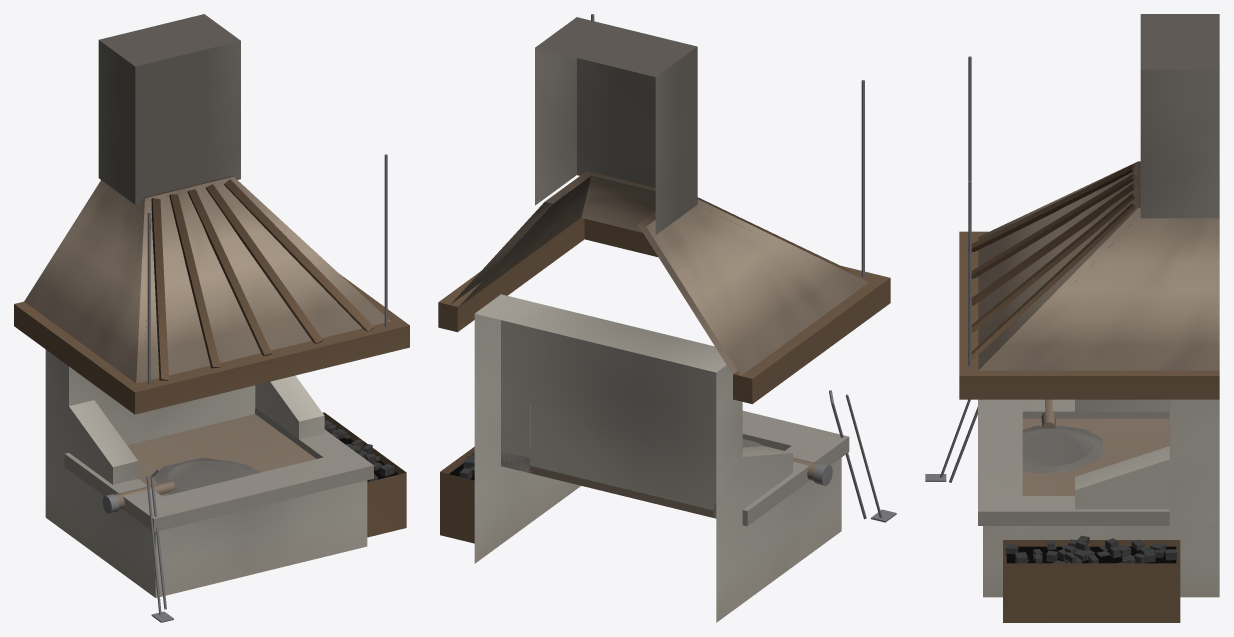
File: kalev_smithy_hearth.glb
3 renders of one model, left to right at view 1: azimuth 30°, elevation 25°; view 2: azimuth 150°, elevation 25°; view 3: azimuth 270°, elevation 25°, orthographic. The views are drawn at different scales.
Visible parts, largest first — view 1: kalev_smithy_hearth_limestone, kalev_smithy_hearth_clay, kalev_smithy_hearth_oak, kalev_smithy_hearth_slab, kalev_smithy_hearth_iron, kalev_smithy_hearth_ash, kalev_smithy_hearth_charcoal; view 2: kalev_smithy_hearth_limestone, kalev_smithy_hearth_clay, kalev_smithy_hearth_oak, kalev_smithy_hearth_slab, kalev_smithy_hearth_iron; view 3: kalev_smithy_hearth_clay, kalev_smithy_hearth_limestone, kalev_smithy_hearth_oak, kalev_smithy_hearth_slab, kalev_smithy_hearth_ash, kalev_smithy_hearth_charcoal, kalev_smithy_hearth_iron, kalev_smithy_hearth_loft_shadow.
Boxes of the visible parts, box(x1,y1,x2,y2) form: kalev_smithy_hearth_limestone: box(45, 14, 367, 597); kalev_smithy_hearth_clay: box(24, 176, 390, 509); kalev_smithy_hearth_oak: box(14, 179, 409, 537); kalev_smithy_hearth_slab: box(64, 408, 373, 532); kalev_smithy_hearth_iron: box(102, 154, 387, 622); kalev_smithy_hearth_ash: box(154, 458, 260, 494); kalev_smithy_hearth_charcoal: box(324, 420, 394, 481); kalev_smithy_hearth_limestone: box(474, 17, 841, 622); kalev_smithy_hearth_clay: box(450, 171, 868, 517); kalev_smithy_hearth_oak: box(438, 197, 890, 543); kalev_smithy_hearth_slab: box(501, 410, 849, 526); kalev_smithy_hearth_iron: box(591, 14, 896, 522); kalev_smithy_hearth_clay: box(978, 161, 1219, 495); kalev_smithy_hearth_limestone: box(983, 14, 1219, 597); kalev_smithy_hearth_oak: box(959, 164, 1219, 622); kalev_smithy_hearth_slab: box(978, 399, 1169, 525); kalev_smithy_hearth_ash: box(1022, 425, 1103, 473); kalev_smithy_hearth_charcoal: box(1005, 535, 1176, 563); kalev_smithy_hearth_iron: box(925, 56, 977, 482); kalev_smithy_hearth_loft_shadow: box(1006, 546, 1176, 563).
Bounding box in the file's own units: 2.76 × 4.2 × 2.24.
